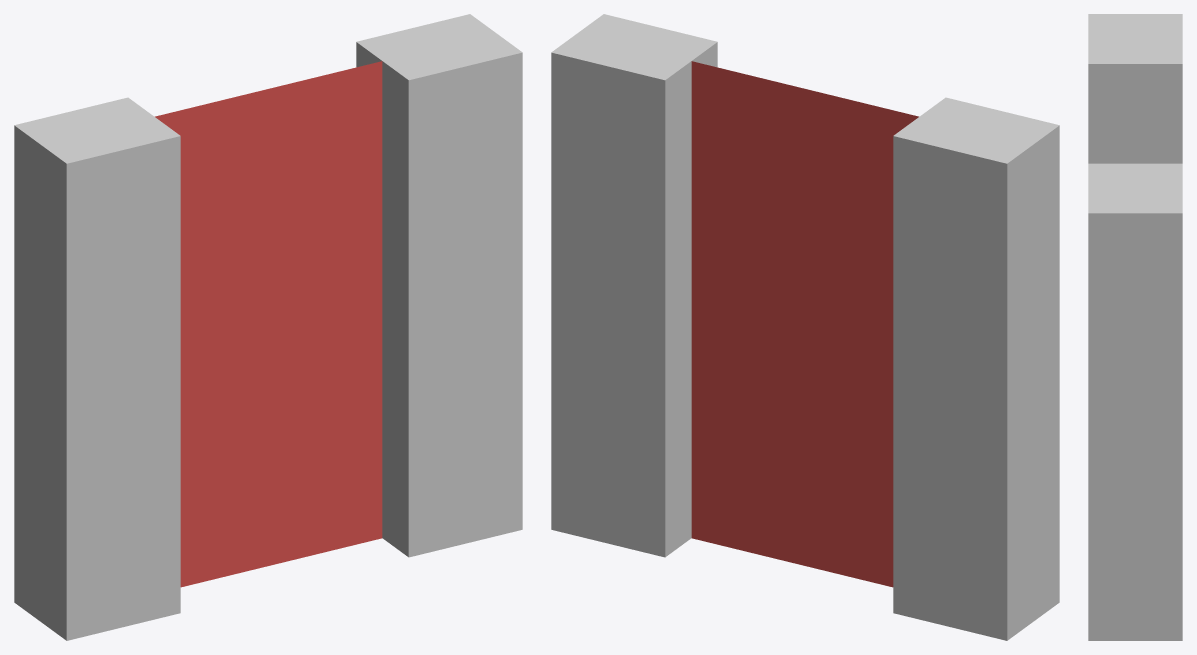
The model's file is sm_DummyGeo_BigWindow.fbx.
3 renders of one model, left to right at view 1: azimuth 30°, elevation 25°; view 2: azimuth 150°, elevation 25°; view 3: azimuth 270°, elevation 25°, orthographic. The views are drawn at different scales.
Parts seen in each view (by area): view 1: Cube.001, Plane; view 2: Cube.001, Plane; view 3: Cube.001.
Part boxes in pixels (left/top/right/bottom): Cube.001: left=14, top=14, right=522, bottom=640; Plane: left=155, top=61, right=382, bottom=587; Cube.001: left=551, top=14, right=1059, bottom=640; Plane: left=691, top=61, right=918, bottom=587; Cube.001: left=1088, top=14, right=1182, bottom=640.
Size of the model in its own units: 500 by 500 by 100.
